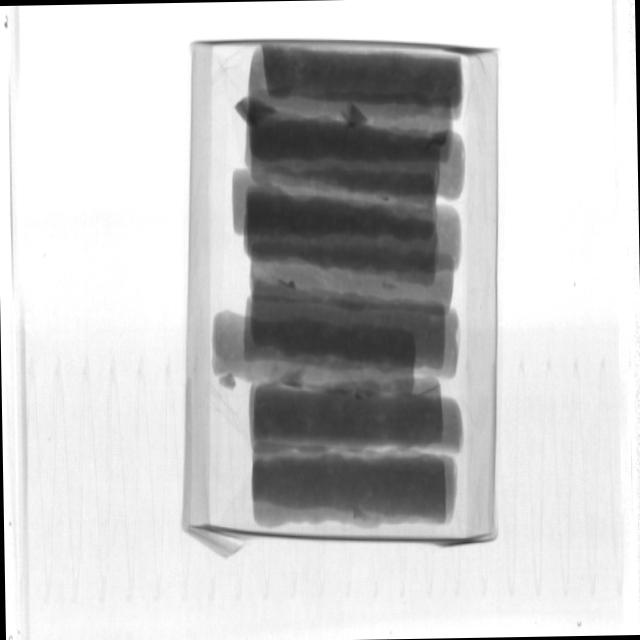ym: (235, 92, 278, 131), (280, 363, 309, 392), (346, 103, 372, 129), (217, 370, 238, 394), (381, 275, 401, 299), (277, 278, 297, 290), (380, 192, 392, 206)
